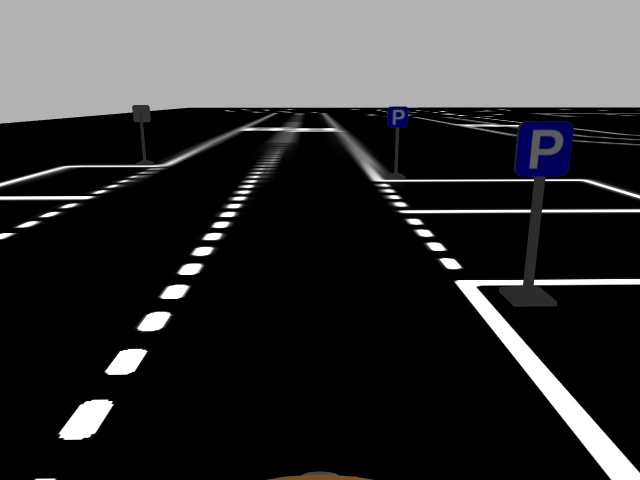parking: (512, 120, 573, 176), (386, 106, 407, 128)
